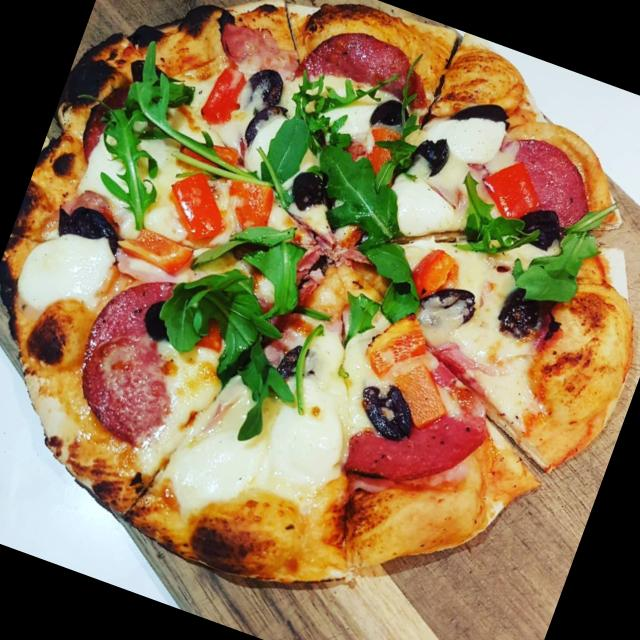black_olives: (416, 270, 486, 338), (352, 376, 420, 444), (504, 197, 573, 260), (54, 201, 124, 256), (362, 90, 418, 150), (404, 126, 458, 182), (283, 160, 335, 217), (508, 290, 562, 344), (242, 61, 294, 112), (242, 95, 288, 151), (273, 337, 316, 384)
pepperoni: (62, 254, 251, 460), (332, 368, 504, 517), (304, 9, 443, 115), (478, 124, 608, 231)
peppers: (348, 309, 462, 412), (158, 160, 238, 243), (196, 56, 252, 125), (352, 122, 404, 178), (408, 245, 458, 298)
pizza: (0, 0, 636, 592)
